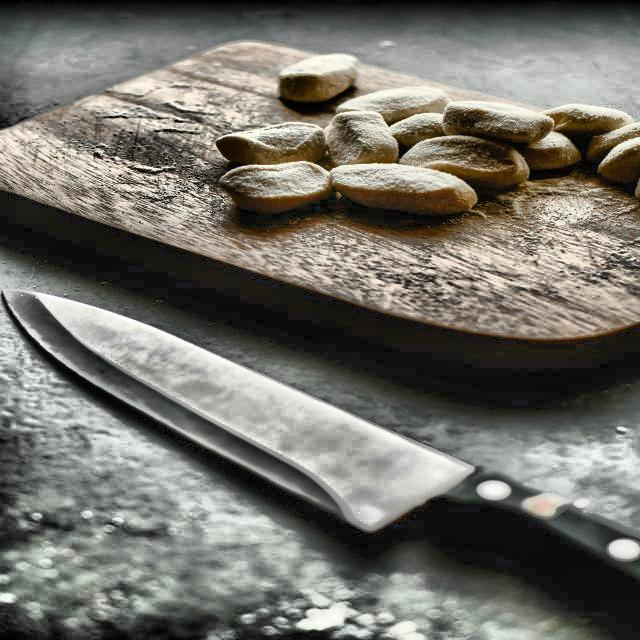knife: (0, 282, 640, 620)
